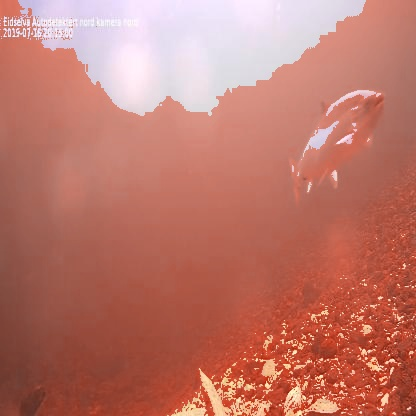salmon: (285, 79, 387, 211)
